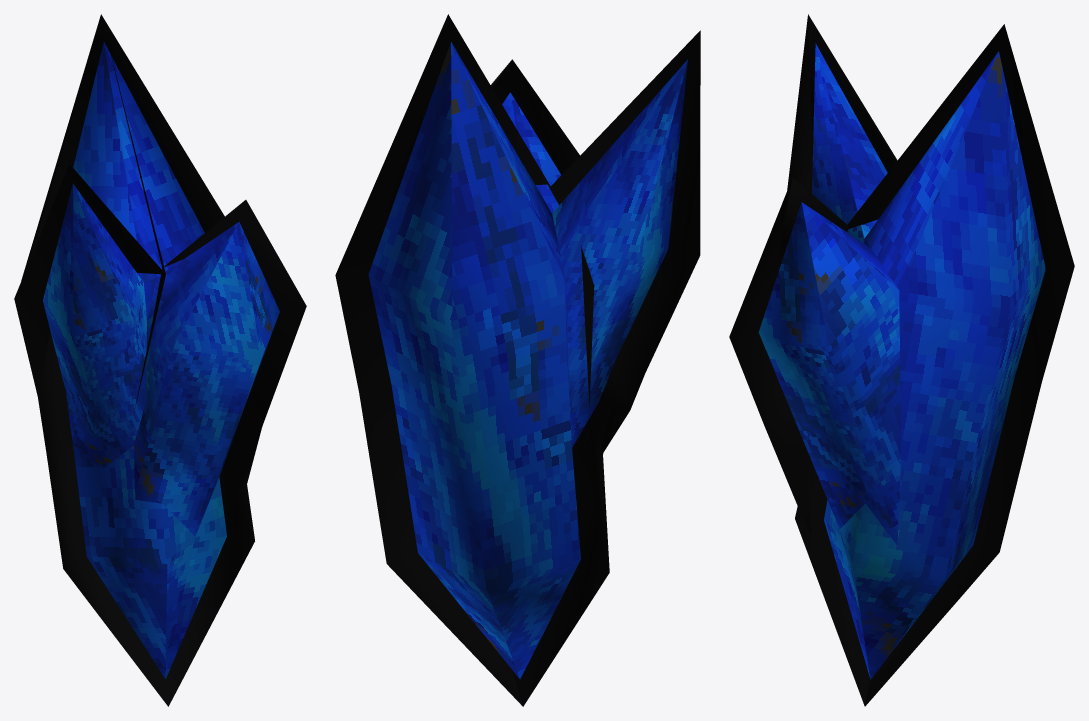
File: OUBLIETTECRYSTAL3_PU.fbx
3 views of the same model, side by side, from view 1: azimuth 30°, elevation 25°; view 2: azimuth 150°, elevation 25°; view 3: azimuth 270°, elevation 25° (orthographic). The views are drawn at different scales.
Parts seen in each view (by area): view 1: OUBLIETTECRYSTAL3_PU; view 2: OUBLIETTECRYSTAL3_PU; view 3: OUBLIETTECRYSTAL3_PU.
Boxes of the visible parts, bbox=[...] form: OUBLIETTECRYSTAL3_PU: bbox=[14, 14, 306, 706]; OUBLIETTECRYSTAL3_PU: bbox=[335, 14, 700, 706]; OUBLIETTECRYSTAL3_PU: bbox=[729, 14, 1074, 706].
Bounding box in the file's own units: 3529 × 8650 × 3970.
Materials: 1 (1 with a texture image).
